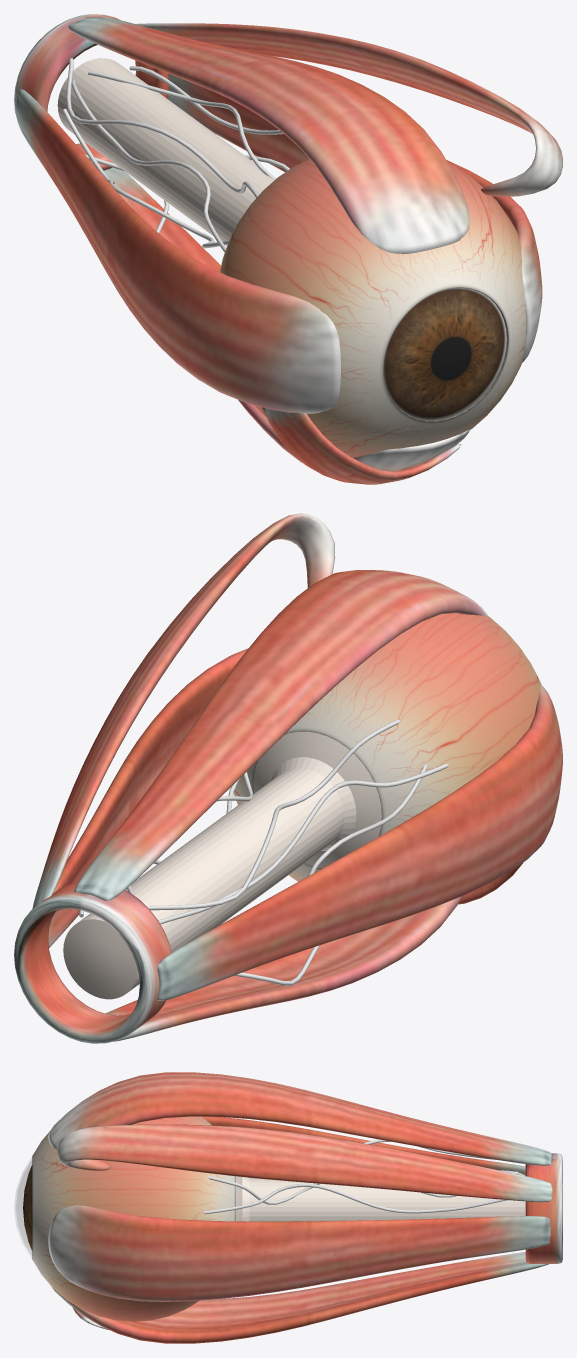
File: EYE MUS.FBX
The picture shows the model from 3 angles, top to bottom: view 1: azimuth 30°, elevation 25°; view 2: azimuth 150°, elevation 25°; view 3: azimuth 270°, elevation 25°; orthographic projection. The views are drawn at different scales.
Visible parts, largest first — view 1: 鞏膜, Box004, Box001, 上斜肌, 角膜, 虹膜, Box003, Box002, 下斜肌, Tube001, 瞳孔, Line003 (+5 smaller); view 2: 鞏膜, Box004, Box001, 上斜肌, Tube001, Box002, Box003, Line003, Line002, Line001; view 3: Box003, 鞏膜, 上斜肌, Box001, Box002, Tube001, Box004, Line006, 角膜, 虹膜, Line004.
Boxes of the visible parts, bbox=[...] form: 鞏膜: bbox=[57, 58, 526, 457]; Box004: bbox=[16, 88, 340, 413]; Box001: bbox=[68, 17, 469, 254]; 上斜肌: bbox=[136, 23, 562, 196]; 角膜: bbox=[384, 288, 506, 419]; 虹膜: bbox=[383, 288, 504, 418]; Box003: bbox=[168, 73, 542, 362]; Box002: bbox=[104, 167, 469, 471]; 下斜肌: bbox=[262, 407, 461, 484]; Tube001: bbox=[14, 14, 169, 170]; 瞳孔: bbox=[430, 336, 472, 380]; Line003: bbox=[66, 58, 258, 197]; 鞏膜: bbox=[63, 613, 541, 999]; Box004: bbox=[157, 685, 562, 1000]; Box001: bbox=[74, 570, 487, 900]; 上斜肌: bbox=[32, 513, 335, 908]; Tube001: bbox=[14, 882, 171, 1043]; Box002: bbox=[105, 895, 463, 1041]; Box003: bbox=[48, 648, 248, 947]; Line003: bbox=[146, 720, 399, 910]; Line002: bbox=[158, 764, 448, 924]; Line001: bbox=[308, 764, 427, 876]; Box003: bbox=[48, 1205, 550, 1301]; 鞏膜: bbox=[32, 1116, 525, 1321]; 上斜肌: bbox=[57, 1124, 552, 1202]; Box001: bbox=[48, 1072, 552, 1165]; Box002: bbox=[52, 1252, 548, 1343]; Tube001: bbox=[525, 1153, 562, 1263]; Box004: bbox=[202, 1116, 525, 1177]; Line006: bbox=[203, 1183, 508, 1214]; 角膜: bbox=[14, 1158, 31, 1256]; 虹膜: bbox=[24, 1165, 32, 1250]; Line004: bbox=[208, 1171, 518, 1204].
Bounding box in the file's own units: 87.3 × 172 × 87.3.
4 materials, 2 textured.
